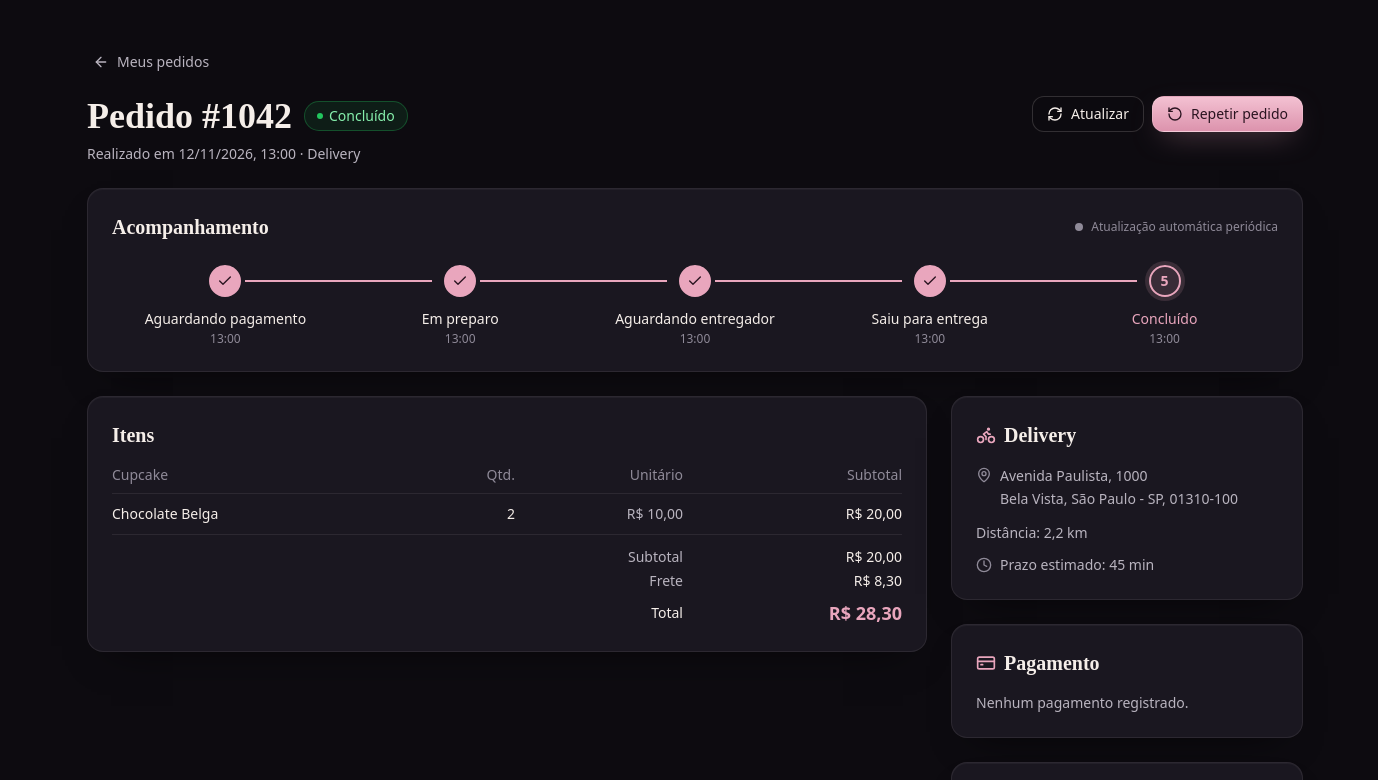
Test: OrderDetailPage › repete o pedido com preços atuais e avisa sobre indisponíveis (US12)
This screenshot has width=1378, height=780.
Click the button "Repetir pedido".
click(1228, 114)  # box x1=1152 y1=96 x2=1303 y2=132
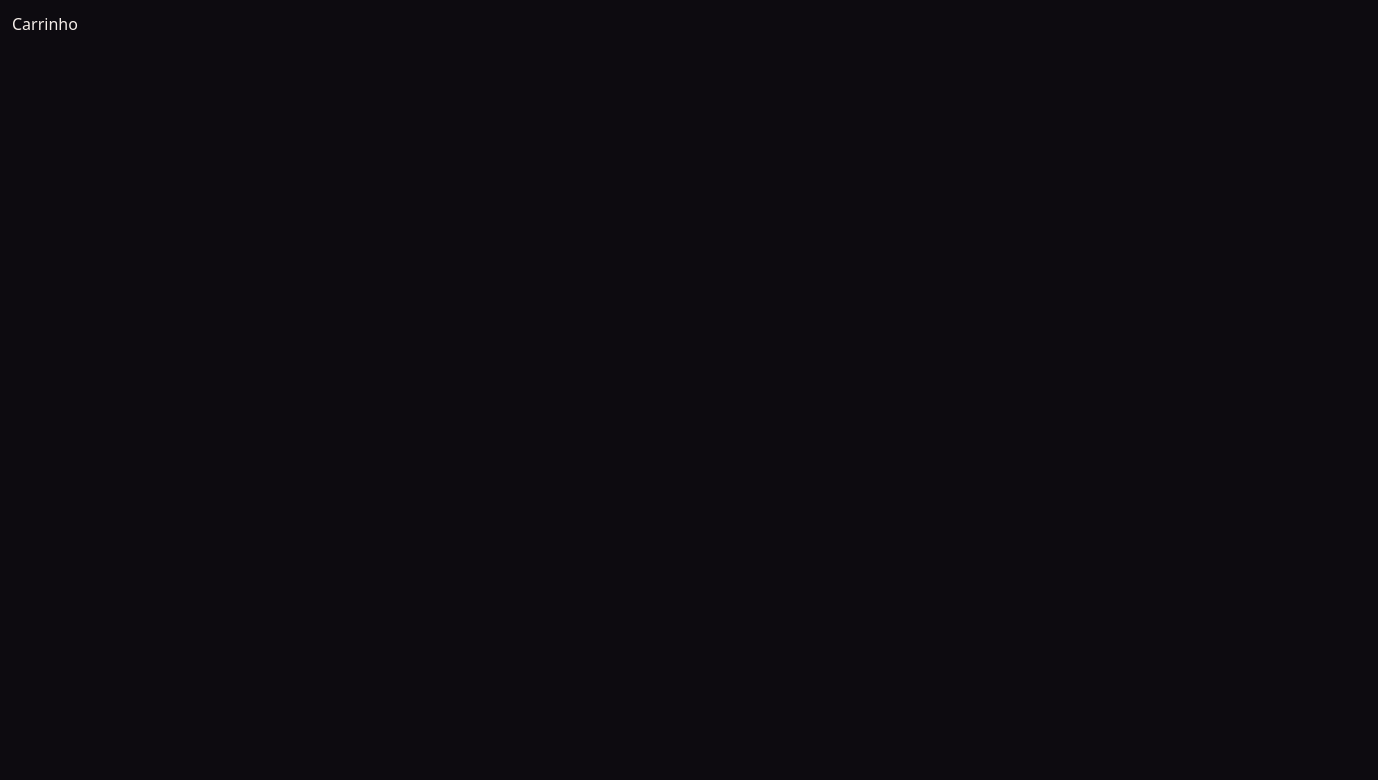
Check: the heading "Carrinho" is shown, box x1=12 y1=13 x2=78 y2=35
